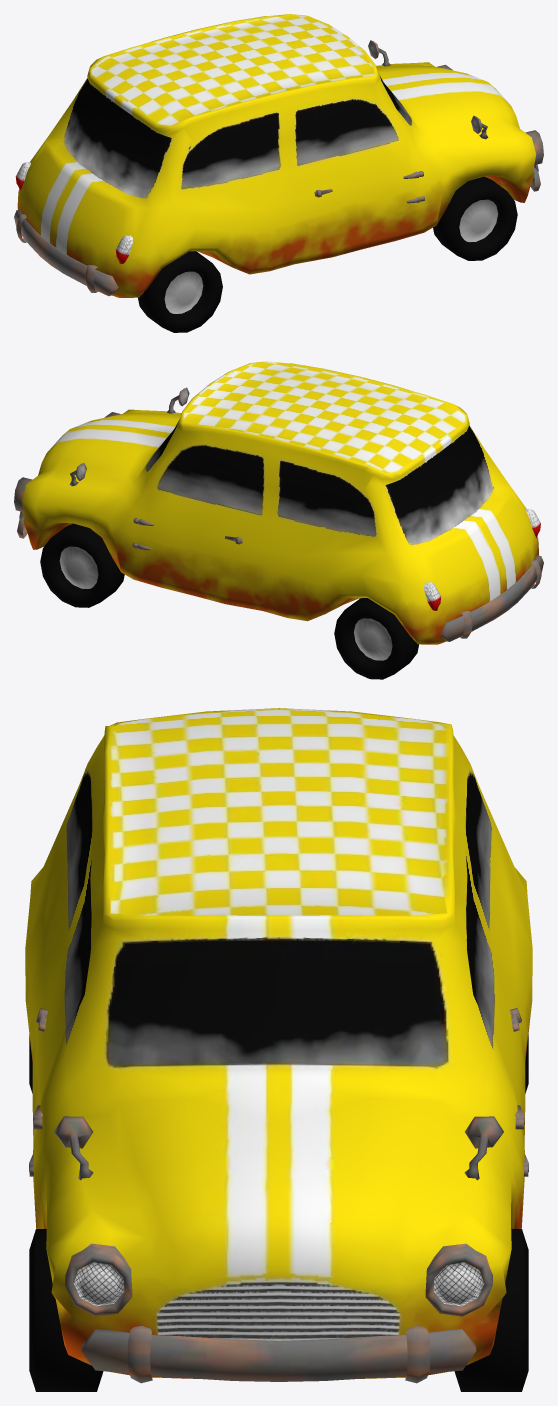
Rendered from caryellow.glb.
3 renders of one model, top to bottom at view 1: azimuth 30°, elevation 25°; view 2: azimuth 150°, elevation 25°; view 3: azimuth 270°, elevation 25°, orthographic. The views are drawn at different scales.
Parts seen in each view (by area): view 1: caryellow; view 2: caryellow; view 3: caryellow.
Boxes of the visible parts, x1,y1,x2,y2 form: caryellow: [14, 14, 543, 332]; caryellow: [14, 361, 543, 679]; caryellow: [25, 708, 532, 1391].
Bounding box in the file's own units: 8.13 × 3.46 × 3.93.
Materials: 1 (1 with a texture image).
